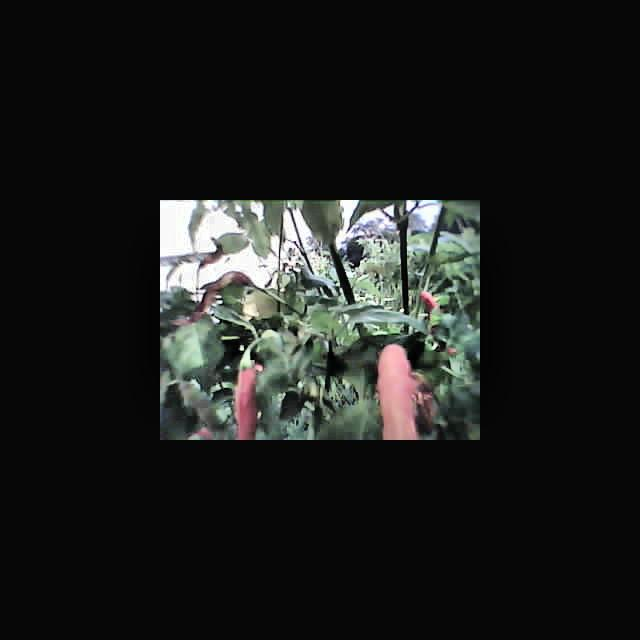Cabai: (222, 355, 267, 440), (379, 345, 416, 440), (193, 273, 252, 308)
